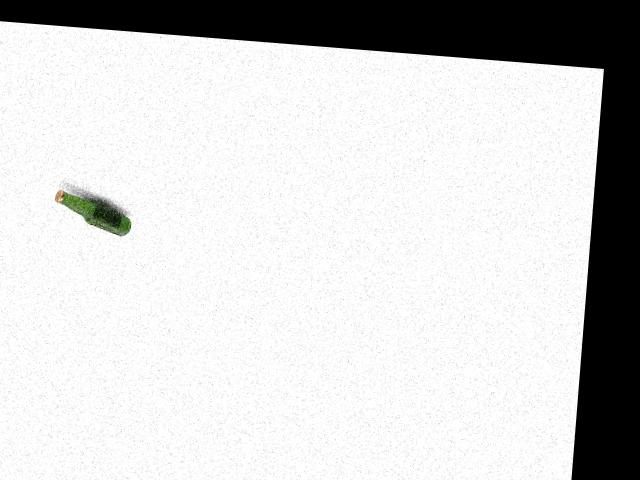beer: (52, 188, 134, 236)
